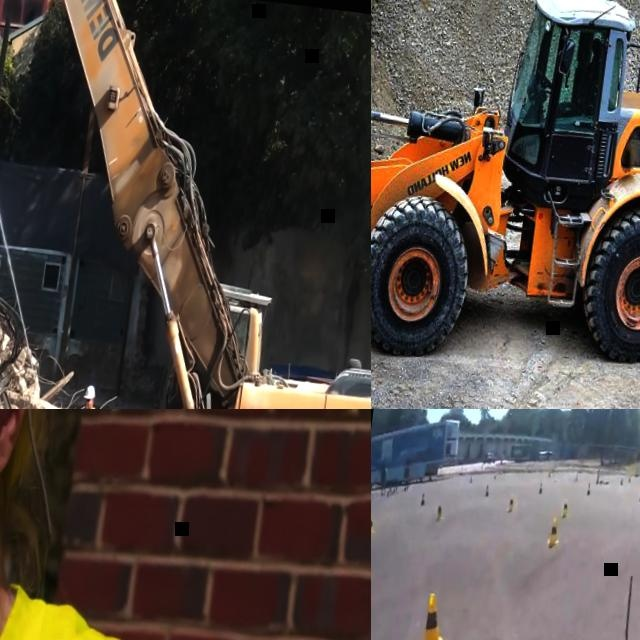Hardhat: (83, 384, 96, 400)
NO-Mask: (84, 401, 91, 409)
Person: (0, 409, 276, 640), (66, 381, 103, 409)
Safety Cone: (420, 591, 448, 640), (545, 513, 563, 551), (505, 492, 515, 513), (435, 502, 445, 522), (371, 512, 378, 536), (560, 499, 568, 518), (484, 482, 490, 497), (420, 490, 425, 505), (586, 481, 591, 495), (637, 485, 640, 503), (538, 482, 542, 493), (595, 475, 599, 485), (469, 475, 472, 484), (620, 478, 623, 486), (627, 475, 630, 482)
machinery: (0, 0, 371, 409), (371, 0, 640, 409)
